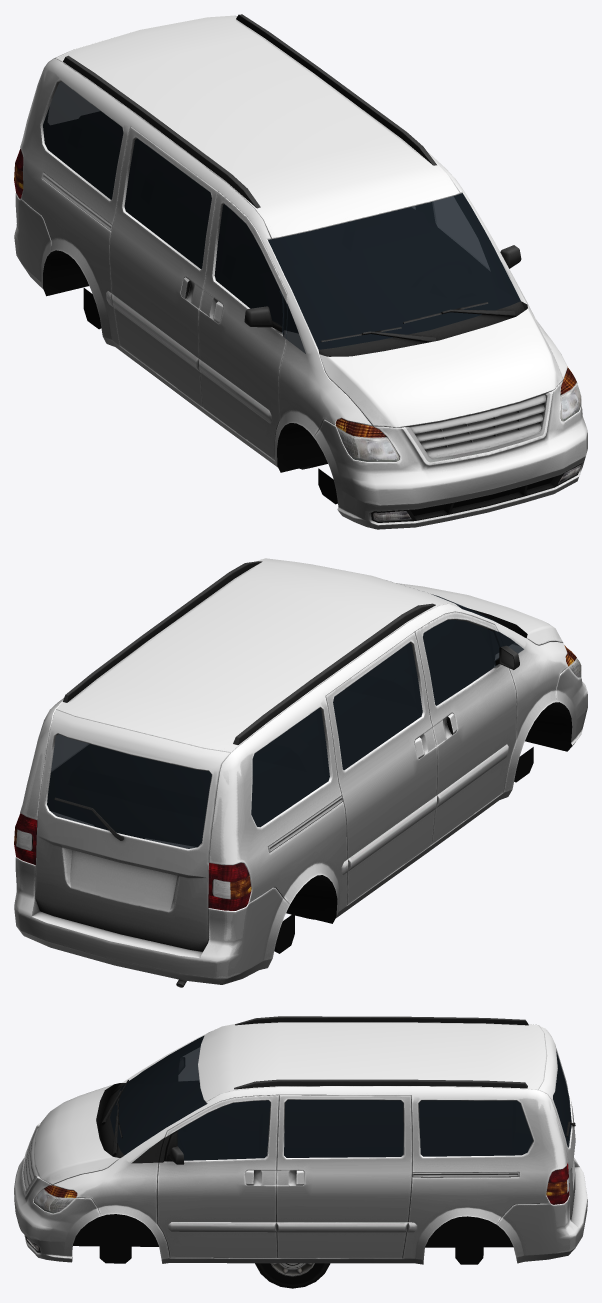
File: van.glb
3 views of the same model, one above another, from view 1: azimuth 30°, elevation 25°; view 2: azimuth 150°, elevation 25°; view 3: azimuth 270°, elevation 25° (orthographic). The views are drawn at different scales.
Visible parts, largest first — view 1: paint, glass, head, tail; view 2: paint, glass, tail, head; view 3: paint, glass, wheel0, tail, head.
Part boxes in pixels (x1,y1,x2,y2): paint: (14,14,587,529); glass: (43,81,520,353); head: (335,366,581,520); tail: (14,149,576,437); paint: (14,558,587,987); glass: (47,594,523,848); tail: (14,649,576,910); head: (16,645,581,899); paint: (14,1016,587,1264); glass: (110,1035,571,1160); wheel0: (255,1263,330,1288); tail: (44,1163,569,1204); head: (26,1177,568,1250).
Size of the model in its own units: 1.87 by 2.08 by 4.61.
5 materials, 4 textured.
